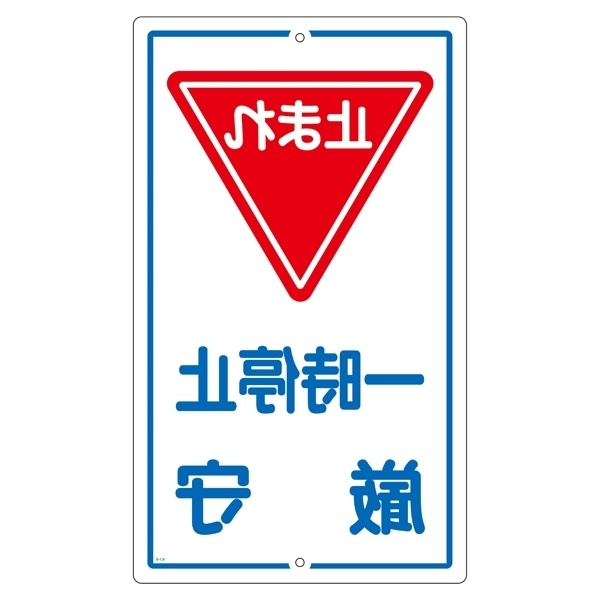Regulatory_sign_triangle: (162, 59, 436, 319)
